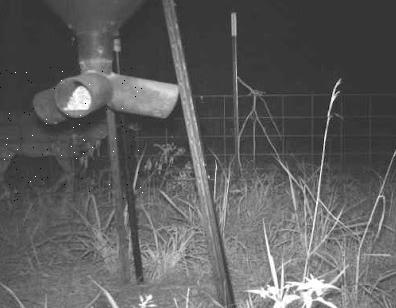Deer: (0, 67, 143, 202)
